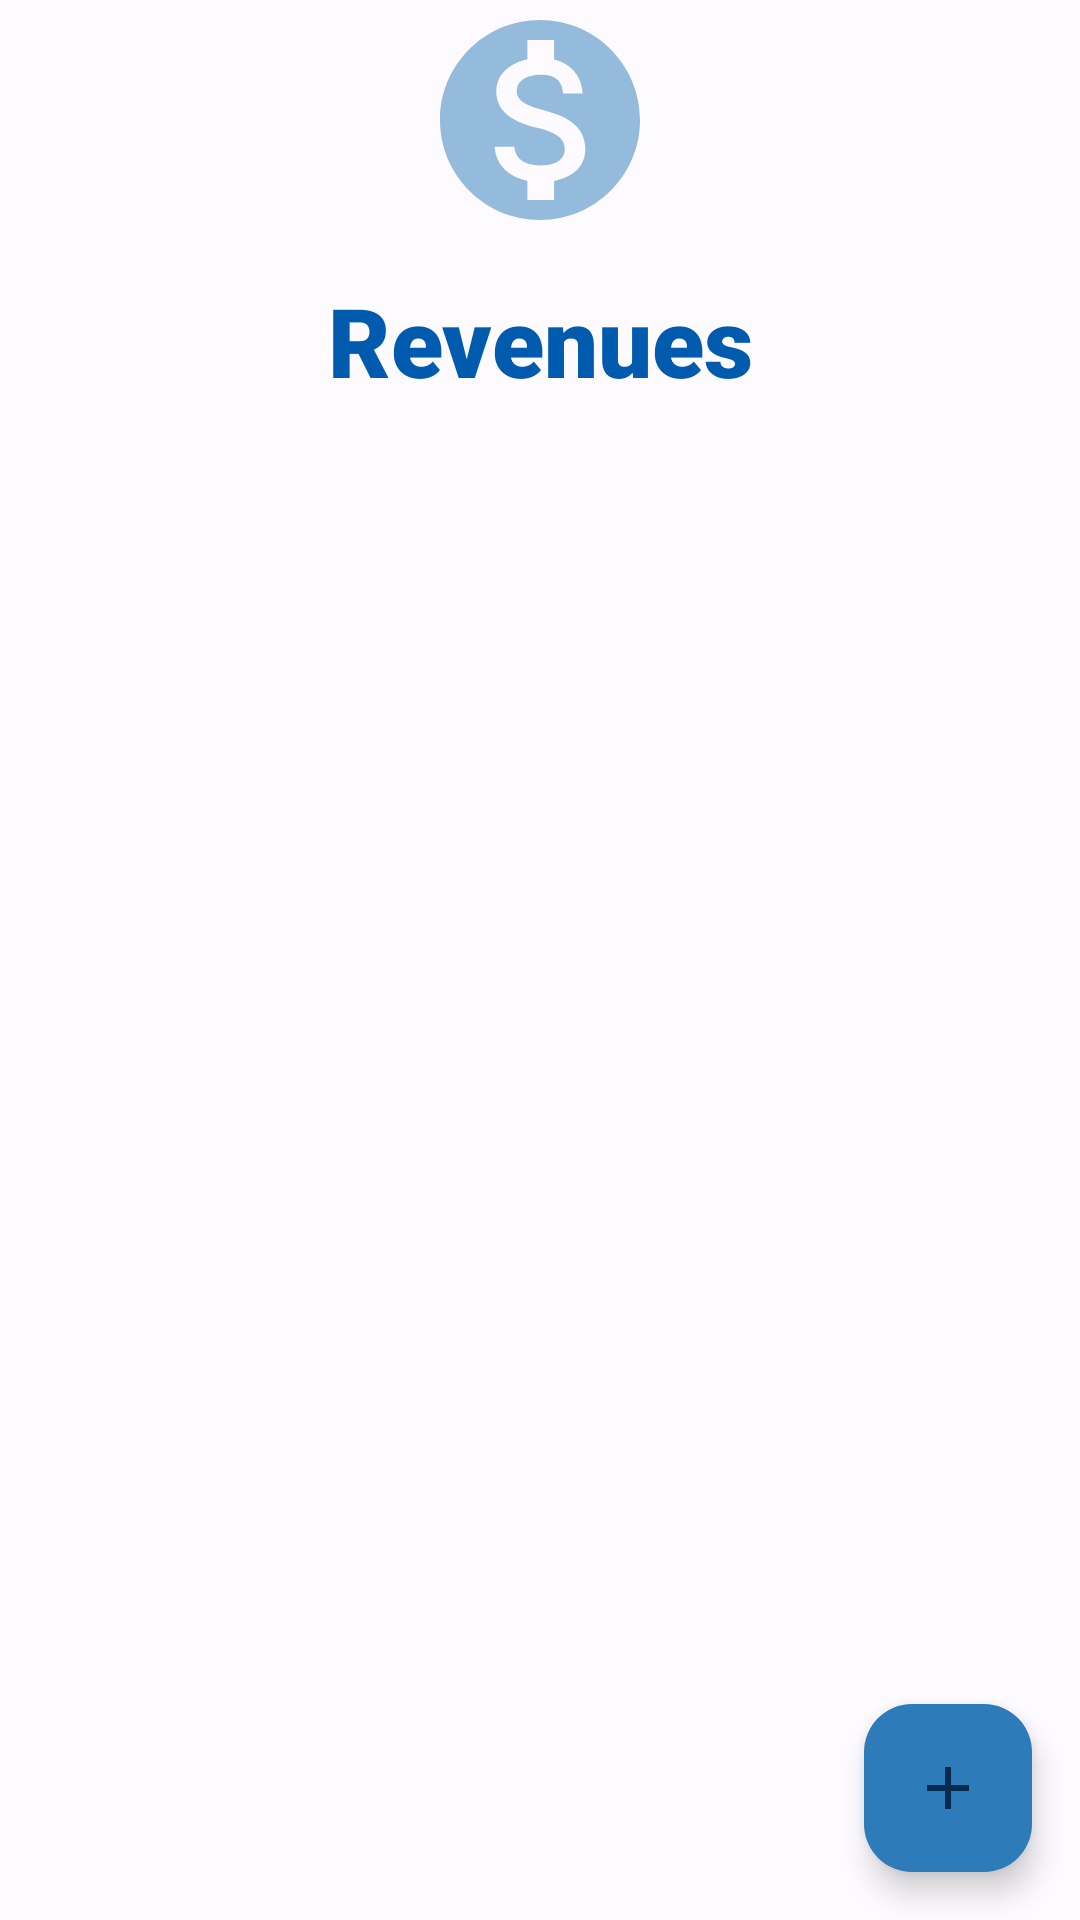

Icons on this 1080*1920 Android screen, each with the point to tap as [x,y]:
Add Revenue: [948,1788]
rev: [540,120]
